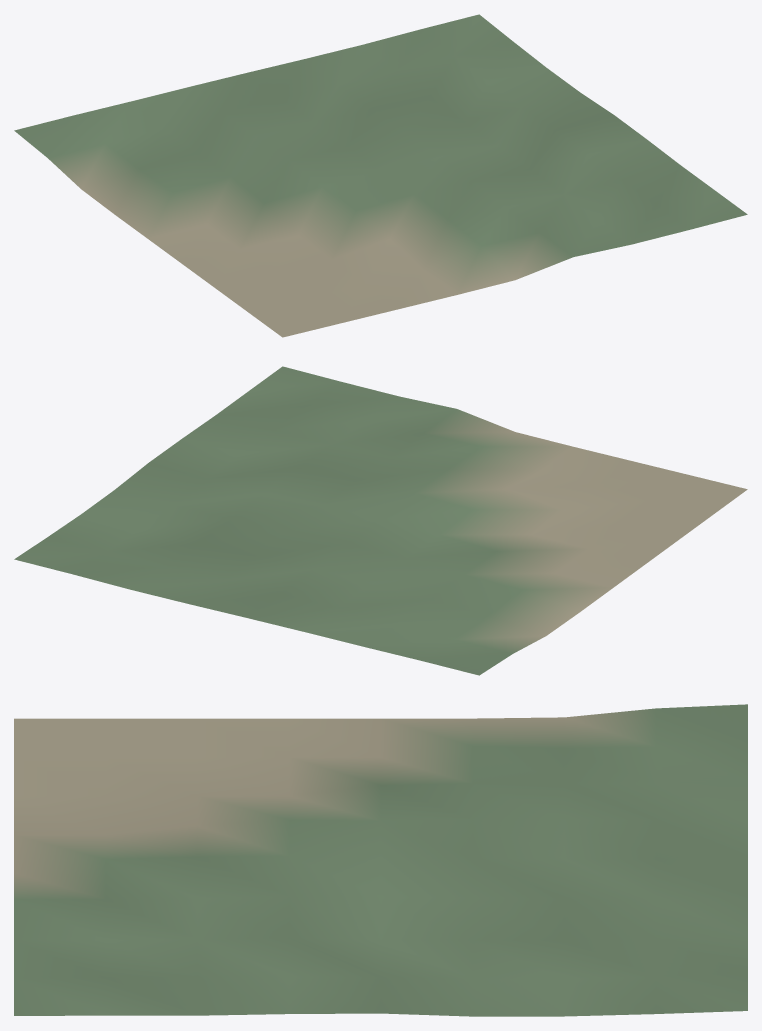
The picture shows the model from 3 angles, top to bottom: view 1: azimuth 30°, elevation 25°; view 2: azimuth 150°, elevation 25°; view 3: azimuth 270°, elevation 25°; orthographic projection. The views are drawn at different scales.
Visible parts, largest first — view 1: Lo; view 2: Lo; view 3: Lo.
Part boxes in pixels (x1,y1,x2,y2): Lo: (14, 14, 747, 337); Lo: (14, 366, 747, 675); Lo: (14, 704, 747, 1016).
Size of the model in its own units: 256 by 6.84 by 256.
